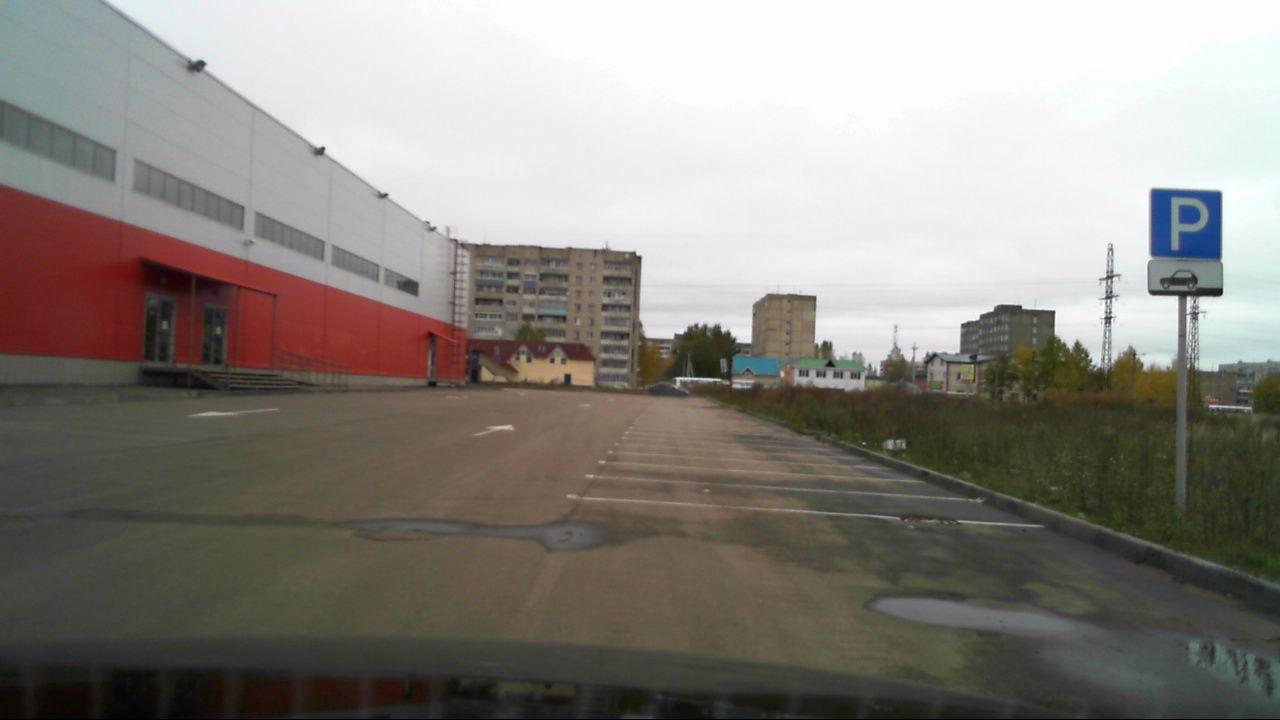6_4: (1147, 188, 1228, 259)
8_6_5: (1149, 260, 1225, 294)
